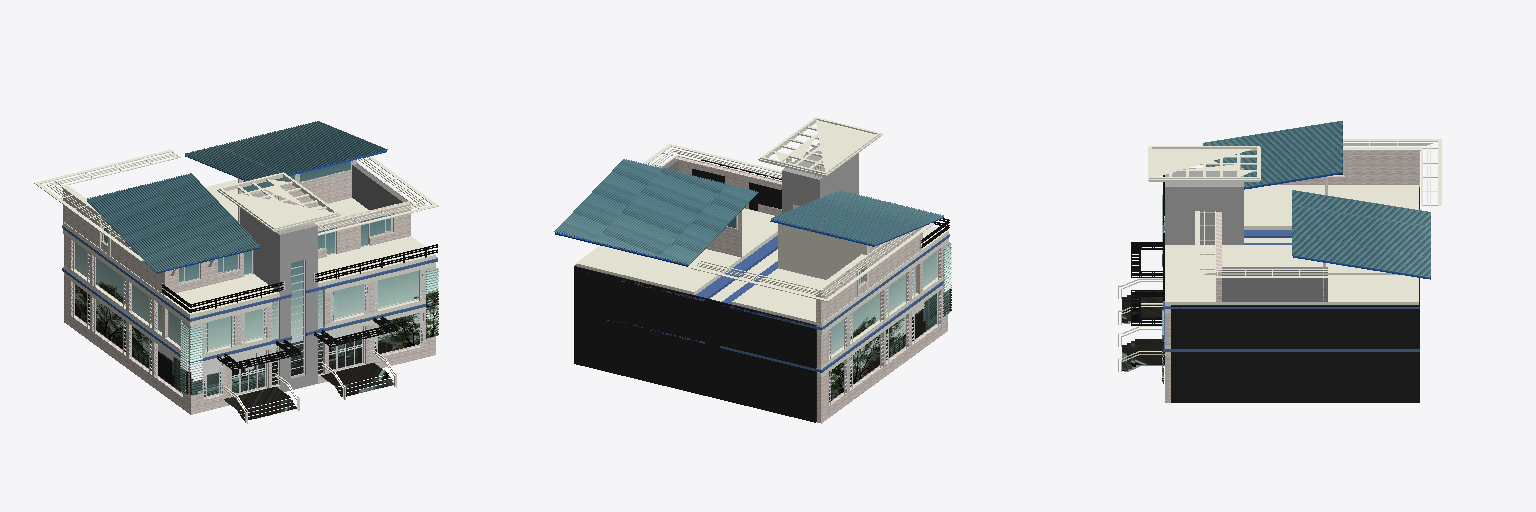
The picture shows the model from 3 angles: view 1: azimuth 30°, elevation 25°; view 2: azimuth 150°, elevation 25°; view 3: azimuth 270°, elevation 25°; orthographic projection.
Parts seen in each view (by area): view 1: 1_05, 2_12, 2_13, 1_09, 1_01, 1_08, 4_03, 1_10, 2_10, Line08, 1_27, Rectangle33 (+22 smaller); view 2: Line04, 2_12, 2_13, 1_09, Rectangle31, 1_05, 1_10, Line08, 1_27, 1_08, 2_10, 3_11 (+12 smaller); view 3: Line04, 2_12, 1_05, 2_13, Rectangle62, 1_10, 1_27, Line02, Line08, Rectangle61, 2_56, 3_09 (+3 smaller).
Boxes of the visible parts, x1=… form: 1_05: x1=240, y1=197, x2=317, y2=391; 2_12: x1=205, y1=179, x2=435, y2=292; 2_13: x1=63, y1=222, x2=279, y2=325; 1_09: x1=64, y1=234, x2=187, y2=412; 1_01: x1=188, y1=266, x2=435, y2=414; 1_08: x1=165, y1=201, x2=410, y2=295; 4_03: x1=374, y1=271, x2=419, y2=353; 1_10: x1=63, y1=189, x2=164, y2=294; 2_10: x1=64, y1=265, x2=271, y2=367; Line08: x1=34, y1=150, x2=180, y2=260; 1_27: x1=217, y1=189, x2=340, y2=231; Rectangle33: x1=238, y1=160, x2=356, y2=223; Line04: x1=574, y1=265, x2=816, y2=422; 2_12: x1=576, y1=208, x2=777, y2=294; 2_13: x1=732, y1=226, x2=948, y2=334; 1_09: x1=817, y1=245, x2=945, y2=423; Rectangle31: x1=778, y1=224, x2=868, y2=289; 1_05: x1=782, y1=143, x2=858, y2=213; 1_10: x1=816, y1=227, x2=922, y2=322; Line08: x1=691, y1=223, x2=933, y2=301; 1_27: x1=758, y1=120, x2=882, y2=176; 1_08: x1=675, y1=156, x2=781, y2=215; 2_10: x1=817, y1=277, x2=943, y2=376; 3_11: x1=588, y1=235, x2=777, y2=301; Line04: x1=1171, y1=188, x2=1419, y2=402; 2_12: x1=1165, y1=245, x2=1418, y2=313; 1_05: x1=1165, y1=168, x2=1243, y2=244; 2_13: x1=1244, y1=185, x2=1418, y2=229; Rectangle62: x1=1222, y1=267, x2=1327, y2=301; 1_10: x1=1277, y1=151, x2=1419, y2=184; 1_27: x1=1148, y1=147, x2=1260, y2=180; Line02: x1=1195, y1=211, x2=1407, y2=277; Line08: x1=1343, y1=139, x2=1441, y2=205; Rectangle61: x1=1122, y1=339, x2=1164, y2=370; 2_56: x1=1152, y1=149, x2=1256, y2=176; 3_09: x1=1163, y1=309, x2=1419, y2=351.
Bounding box in the file's own units: 22900 × 13500 × 22831.
13 materials, 2 textured.